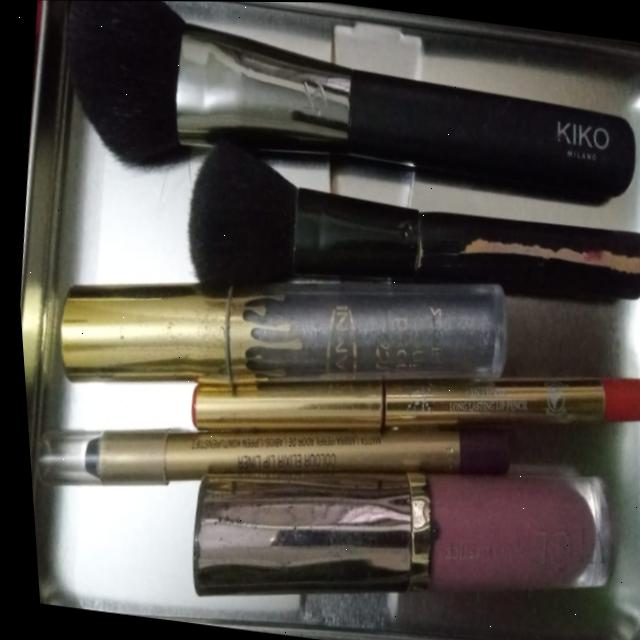brush: (27, 0, 640, 237), (146, 118, 640, 343)
lip gloss: (157, 408, 640, 640)
lip liner: (162, 314, 640, 492), (21, 395, 232, 516)
